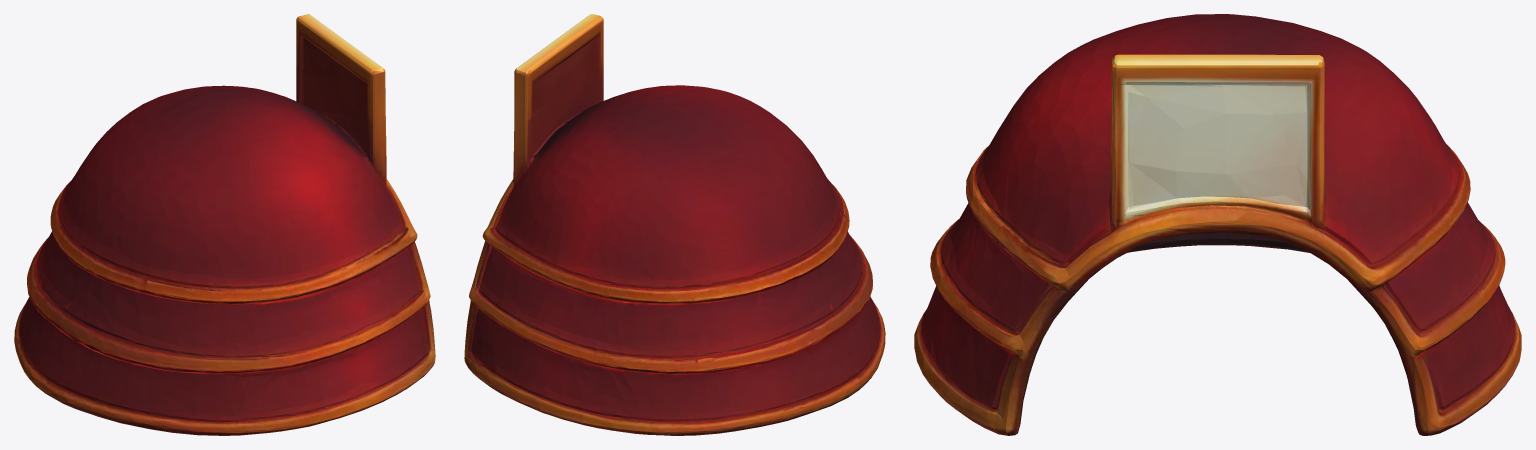
The model's file is dsa_deadeye_pauldron.glb.
3 views of the same model, side by side, from view 1: azimuth 30°, elevation 25°; view 2: azimuth 150°, elevation 25°; view 3: azimuth 270°, elevation 25° (orthographic). The views are drawn at different scales.
Visible parts, largest first — view 1: tmphzvt80mv.ply; view 2: tmphzvt80mv.ply; view 3: tmphzvt80mv.ply.
Boxes of the visible parts, x1,y1,x2,y2 form: tmphzvt80mv.ply: [14, 14, 435, 435]; tmphzvt80mv.ply: [464, 14, 885, 435]; tmphzvt80mv.ply: [914, 14, 1521, 435].
Bounding box in the file's own units: 1.66 × 1.39 × 1.99.
1 material, 1 textured.
